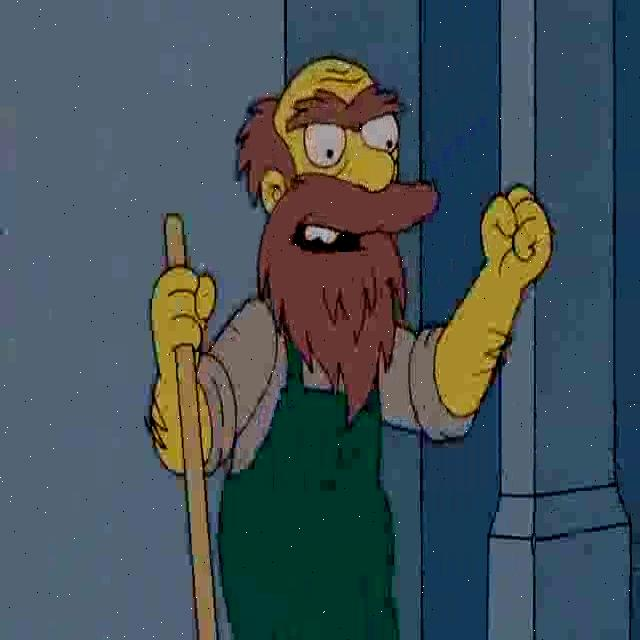Groundskeeper Willie: (234, 51, 446, 413)
